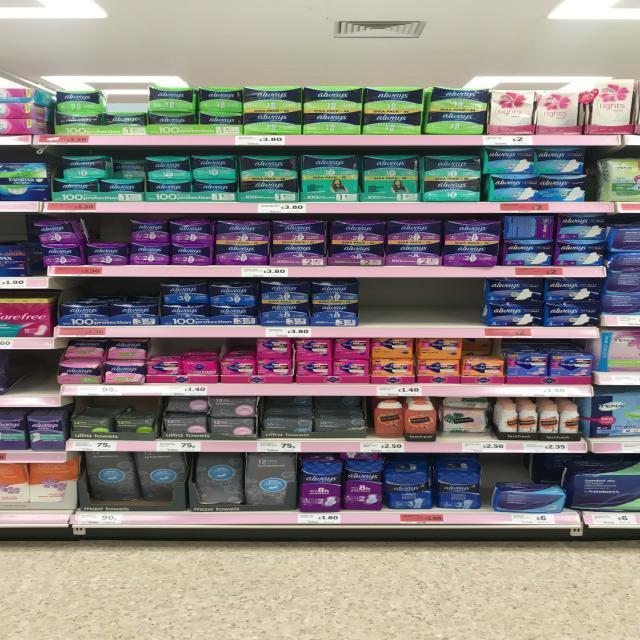Imprecise: (96, 156, 146, 200)
